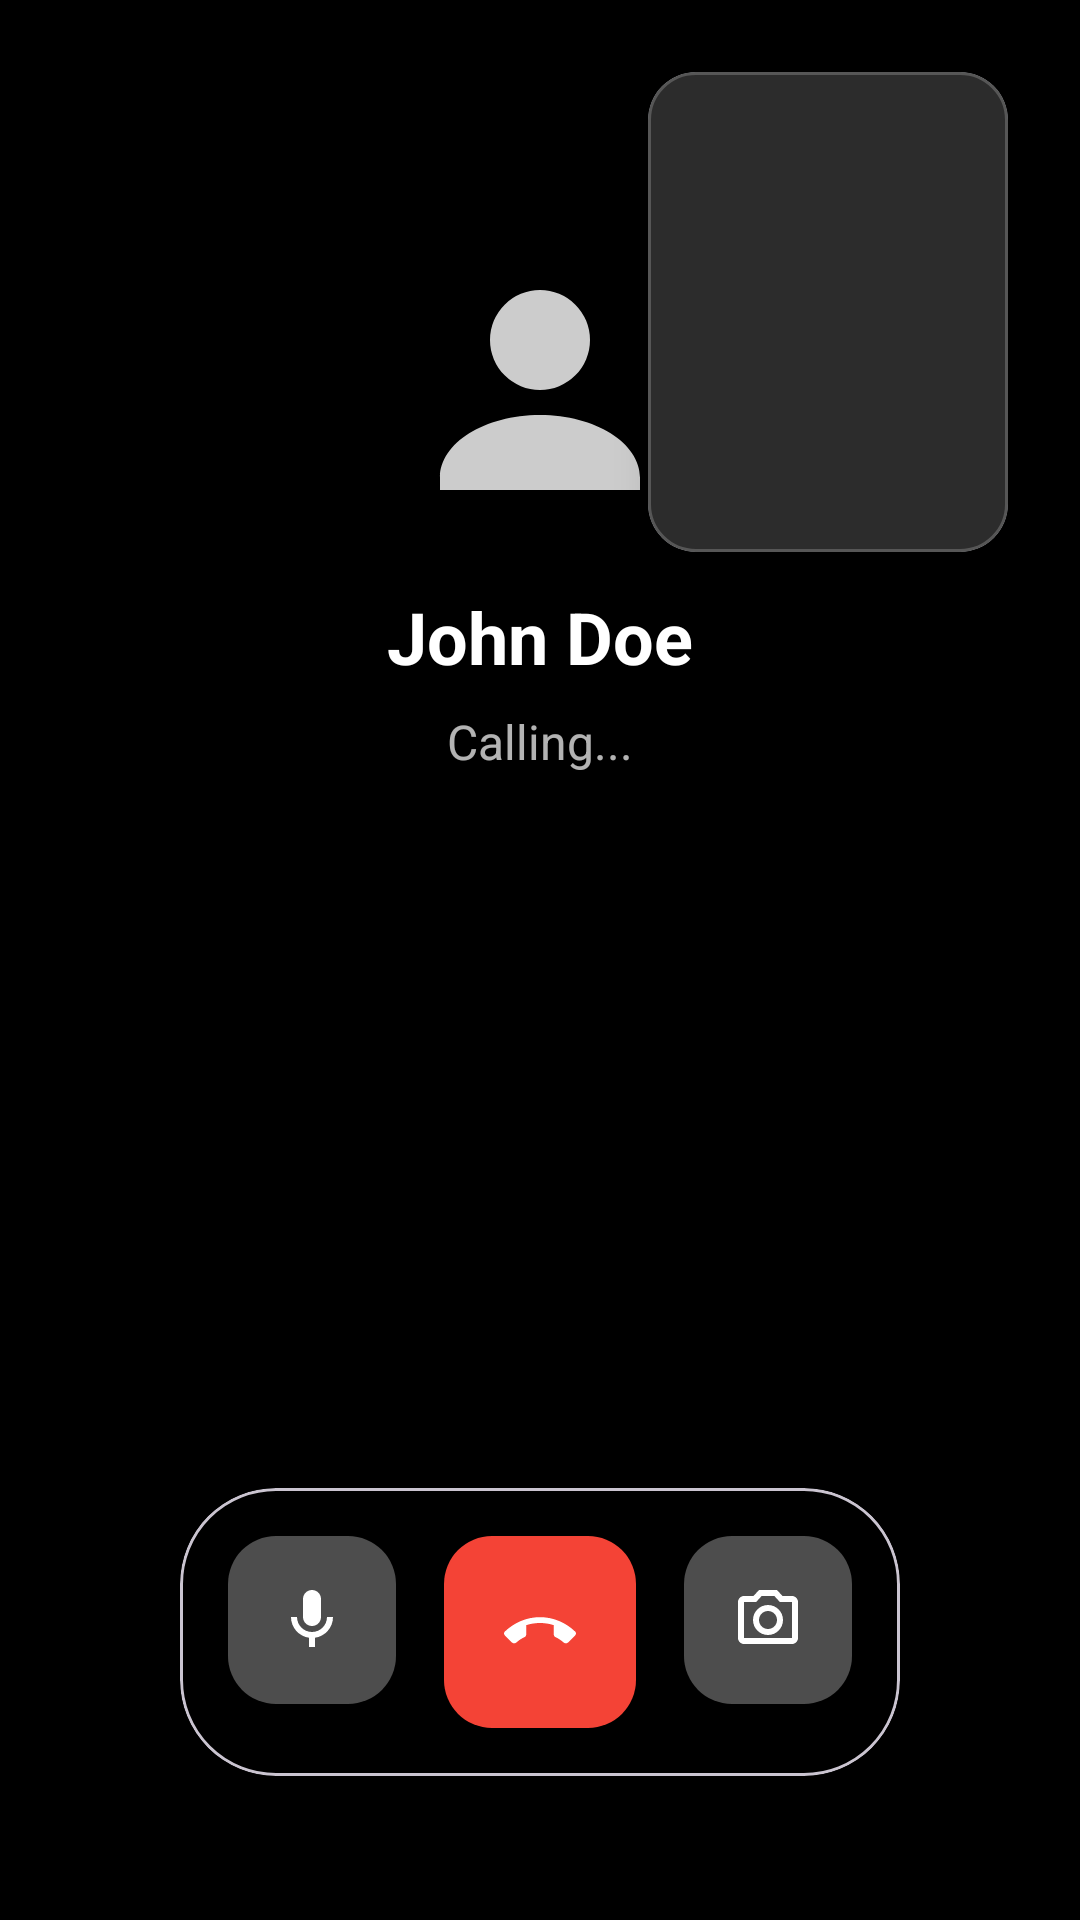

Where to tap for icons on this 1080 x 1920 app screen, as [x,y]:
call end: [540,1632]
camera switch: [768,1620]
mic: [312,1620]
